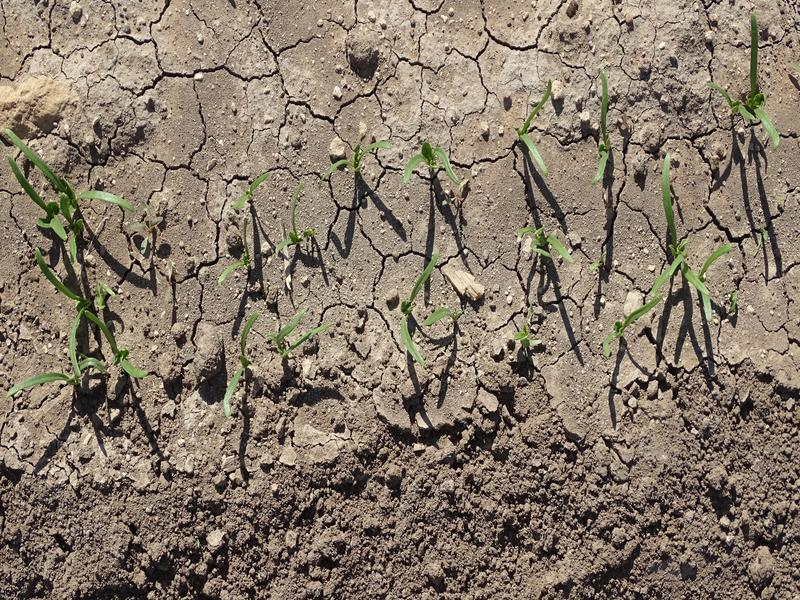Espinaca: (5, 130, 127, 273), (644, 161, 724, 320), (211, 178, 317, 285), (21, 311, 147, 394), (392, 250, 447, 365), (712, 79, 783, 146), (592, 297, 668, 359), (223, 316, 257, 409), (589, 73, 615, 186), (406, 135, 462, 186), (516, 220, 575, 267), (522, 84, 552, 176), (273, 313, 325, 363), (335, 135, 387, 177), (514, 316, 544, 346)
